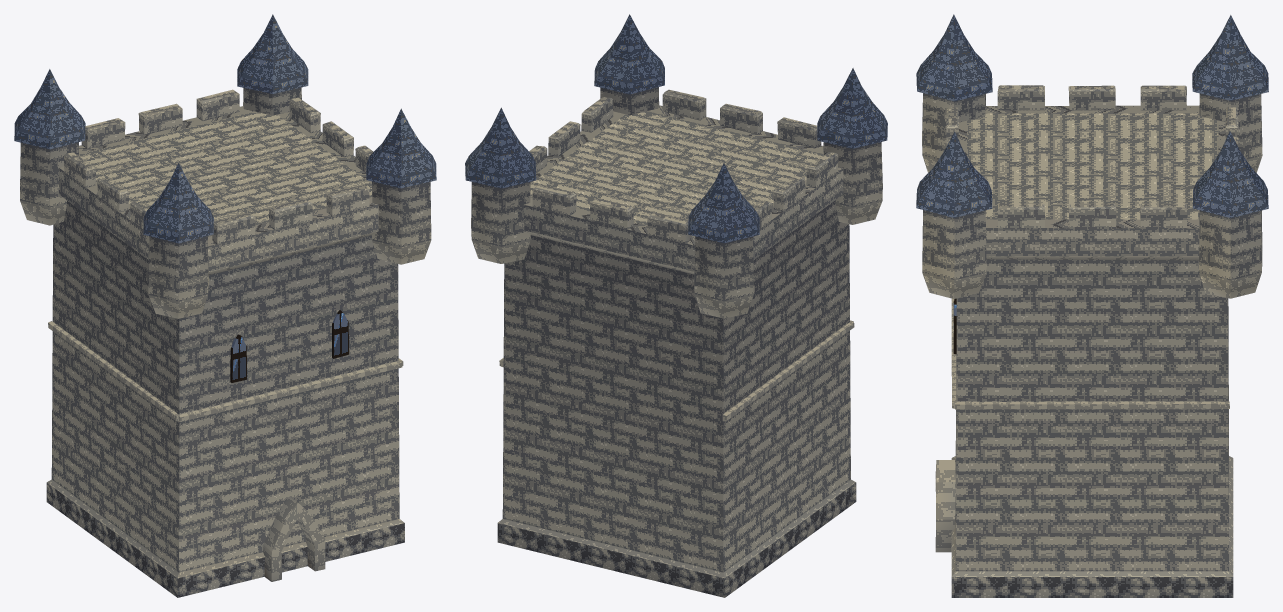
The model's file is cst.keep.glb.
3 renders of one model, left to right at view 1: azimuth 30°, elevation 25°; view 2: azimuth 150°, elevation 25°; view 3: azimuth 270°, elevation 25°, orthographic. The views are drawn at different scales.
Parts seen in each view (by area): view 1: kit_walls, kit_top, kit_detail; view 2: kit_walls, kit_top, kit_detail; view 3: kit_walls, kit_top, kit_detail.
Boxes of the visible parts, x1=… form: kit_walls: x1=46, y1=201, x2=404, y2=597; kit_top: x1=14, y1=14, x2=436, y2=318; kit_detail: x1=48, y1=310, x2=403, y2=581; kit_walls: x1=497, y1=200, x2=856, y2=597; kit_top: x1=465, y1=14, x2=887, y2=318; kit_detail: x1=499, y1=320, x2=854, y2=421; kit_walls: x1=951, y1=259, x2=1233, y2=597; kit_top: x1=916, y1=14, x2=1268, y2=298; kit_detail: x1=935, y1=298, x2=1229, y2=552.
Size of the model in its own units: 13.33 by 18.81 by 12.9.
6 materials, 6 textured.
